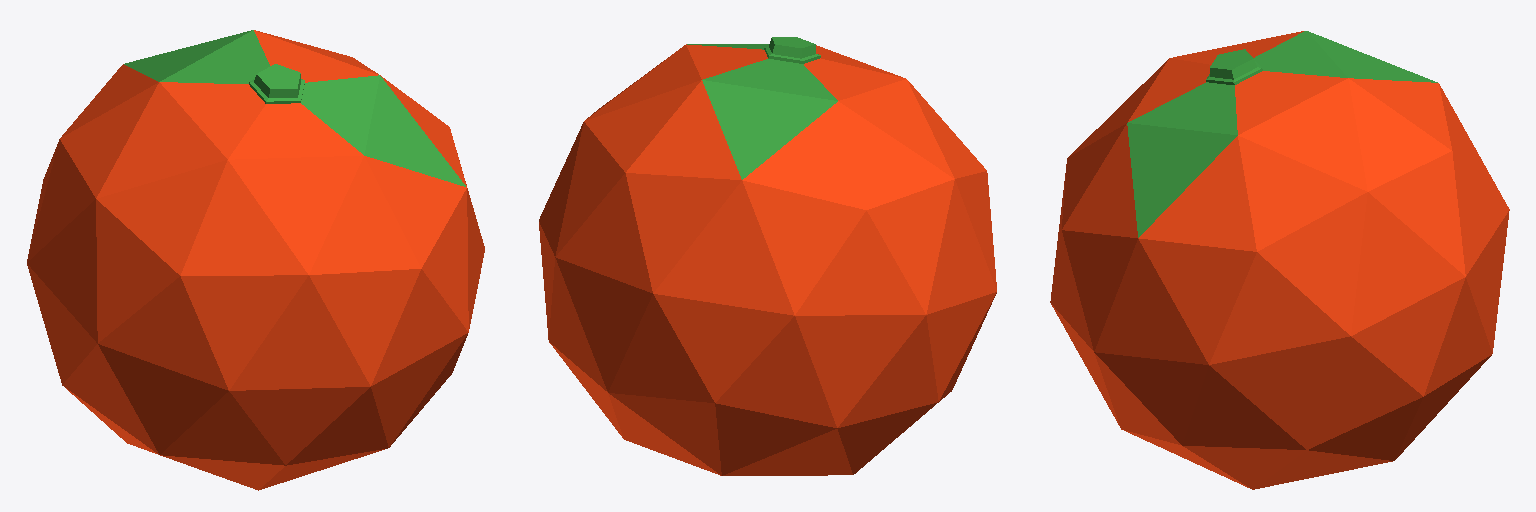
The model's file is NaranjaVariante.obj.
The picture shows the model from 3 angles: view 1: azimuth 30°, elevation 25°; view 2: azimuth 150°, elevation 25°; view 3: azimuth 270°, elevation 25°; orthographic projection.
Parts seen in each view (by area): view 1: Icosphere; view 2: Icosphere; view 3: Icosphere.
Boxes of the visible parts, box(x1,y1,x2,y2) form: Icosphere: box(27, 30, 484, 490); Icosphere: box(539, 37, 996, 475); Icosphere: box(1050, 31, 1509, 489).
Size of the model in its own units: 10.09 by 9.97 by 10.36.